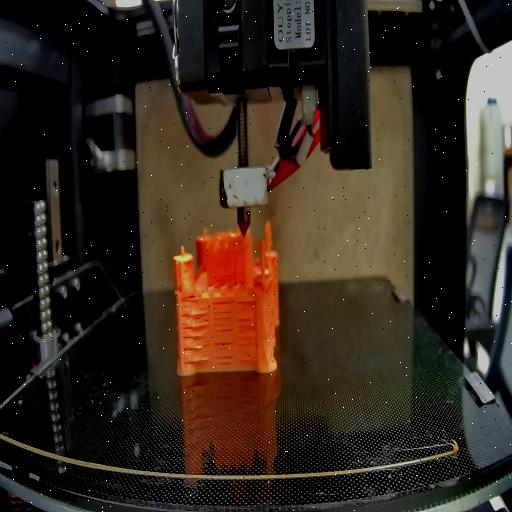cracks: (181, 314, 211, 368), (238, 316, 256, 362), (212, 300, 234, 334), (214, 340, 236, 362), (184, 290, 200, 302), (236, 296, 256, 304)
